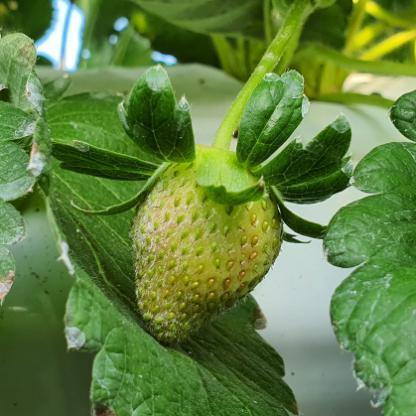Strawberry_Powdery_Mildew_Fruit: (130, 178, 230, 344)
